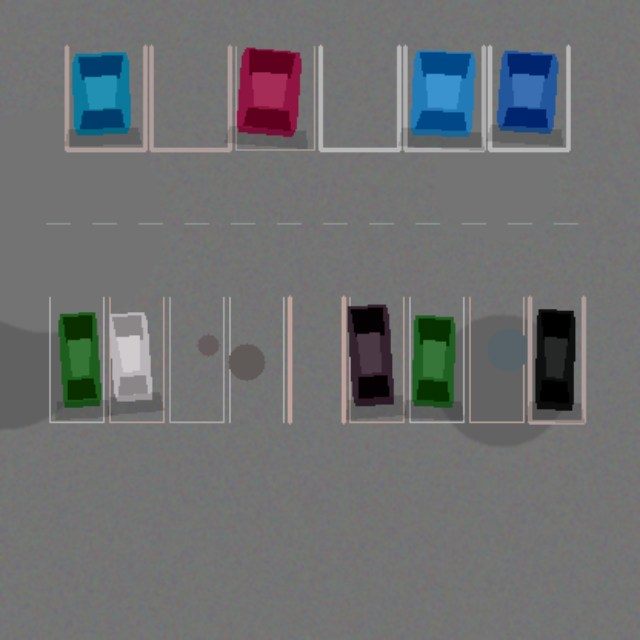space-empty: (151, 46, 229, 149), (320, 46, 398, 149), (169, 297, 223, 422), (229, 297, 283, 422), (289, 297, 343, 422), (469, 297, 523, 422)
space-occupied: (66, 46, 145, 149), (235, 46, 314, 149), (489, 46, 568, 149), (405, 46, 483, 149), (49, 297, 103, 422), (109, 297, 163, 422), (349, 297, 403, 422), (409, 297, 463, 422), (529, 297, 583, 422)
